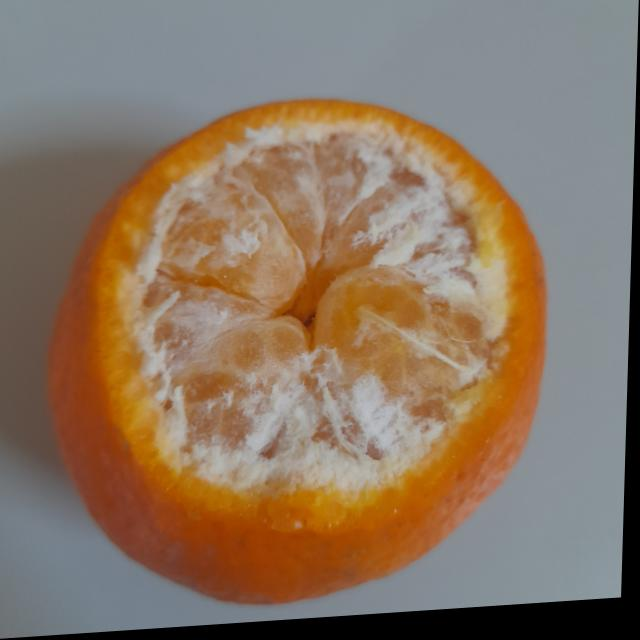Cam: (37, 78, 559, 608)
